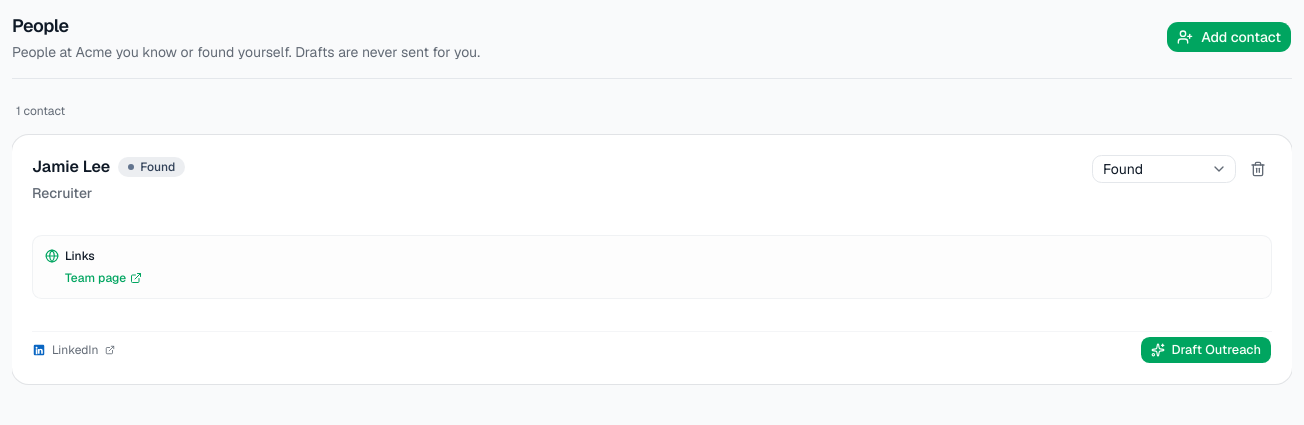
Test: JobContactsPanel › labels a person's links plainly and deletes a contact
expect the text "Links" is shown: met, box x1=65 y1=248 x2=95 y2=264
What coordinates should you click on to do the following:
click the button named "Delete Jamie Lee"
I would click on:
 (1258, 169)
Its box is x1=1244 y1=155 x2=1272 y2=183.
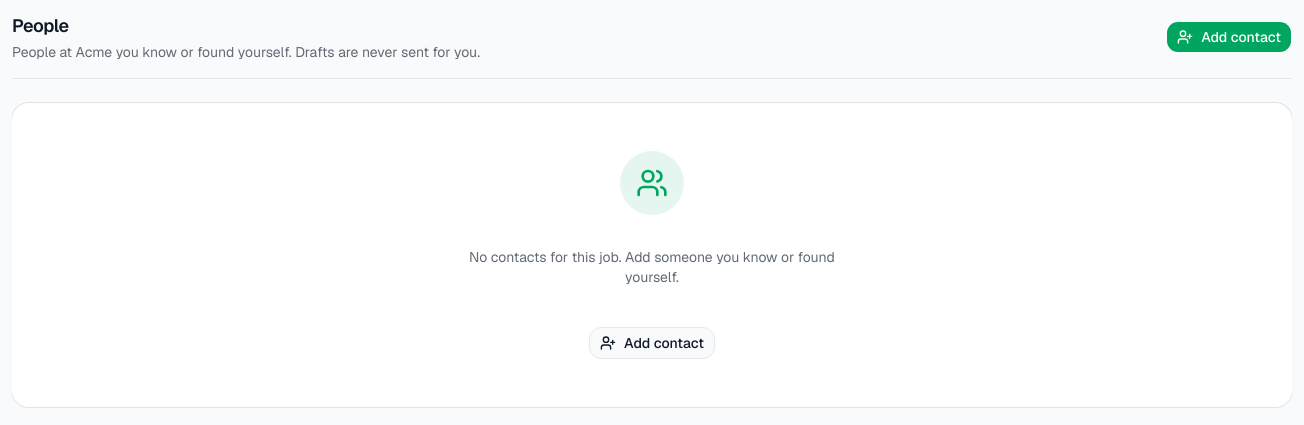
expect the text "No contacts for this job. Add someone you know or found yourself." is shown: met, box x1=460 y1=247 x2=844 y2=287
